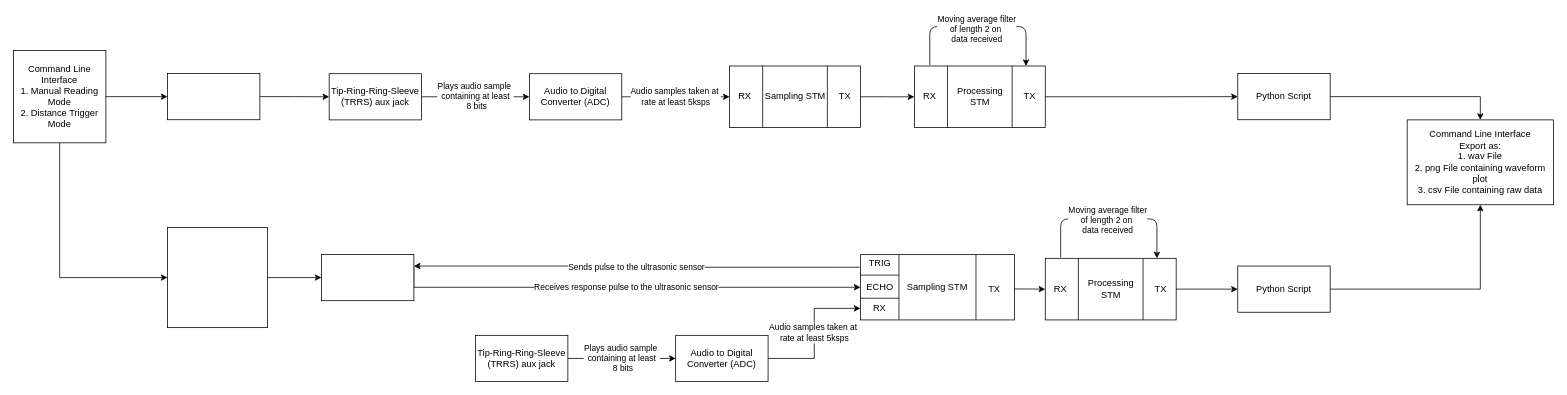
The diagram is 1567 pixels wide and 395 high, and some of its shapes have lost their labels. The centre of each missing label's shape, as x and y in pixels:
"Command Line Interface Confirm distance sensor starts recording (default: 10cm):" goes at point 217,277.
"Command Line Interface Confirm length of recording:" goes at point 213,96.
"Ultrasonic Sensor" goes at point 367,277.
